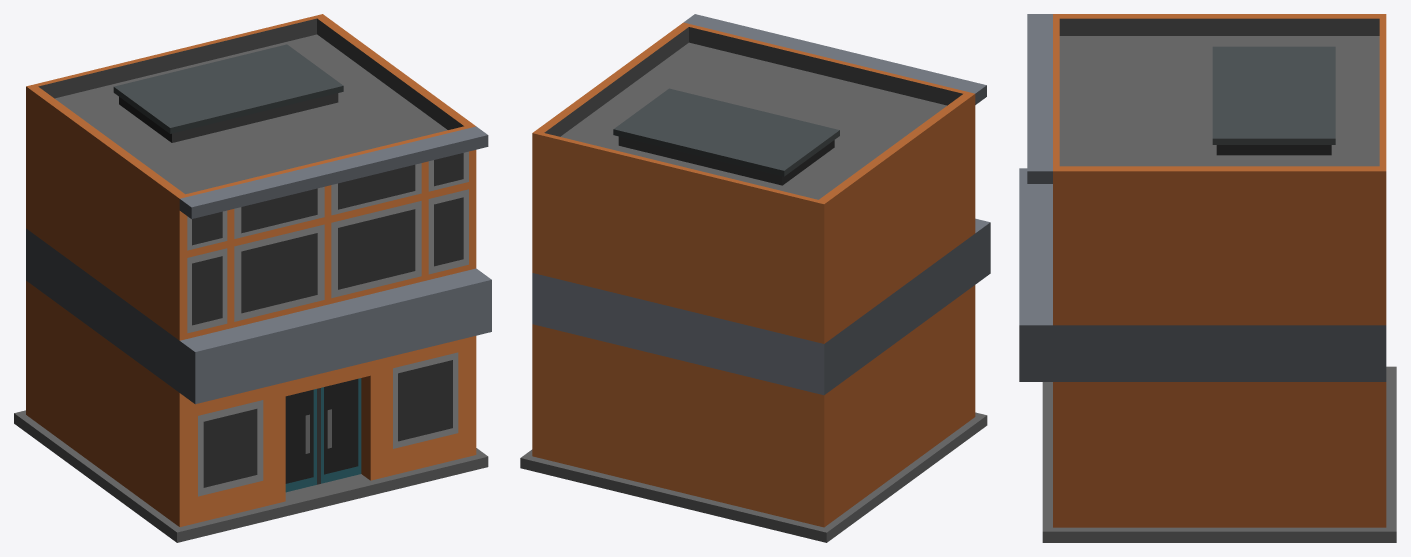
Rendered from shop2.obj.
3 views of the same model, side by side, from view 1: azimuth 30°, elevation 25°; view 2: azimuth 150°, elevation 25°; view 3: azimuth 270°, elevation 25° (orthographic). The views are drawn at different scales.
Visible parts, largest first — view 1: ST_Building_Shop_02_Untitled; view 2: ST_Building_Shop_02_Untitled; view 3: ST_Building_Shop_02_Untitled.
Boxes of the visible parts, x1,y1,x2,y2 form: ST_Building_Shop_02_Untitled: [14, 14, 491, 542]; ST_Building_Shop_02_Untitled: [520, 14, 990, 542]; ST_Building_Shop_02_Untitled: [1019, 14, 1396, 542].
Bounding box in the file's own units: 10.51 × 10.97 × 10.16.
